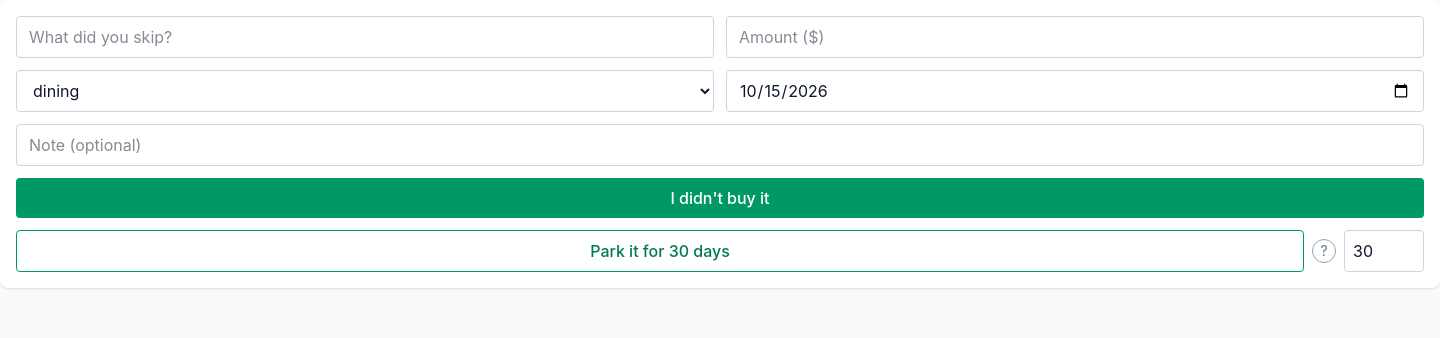
Test: EntryForm cooldown › rejects an out-of-range cooldown
The width and height of the screenshot is (1440, 338).
Type "Hat" into the field with placeholder "What did you skip?" at (365, 37), box [16,16,714,58]
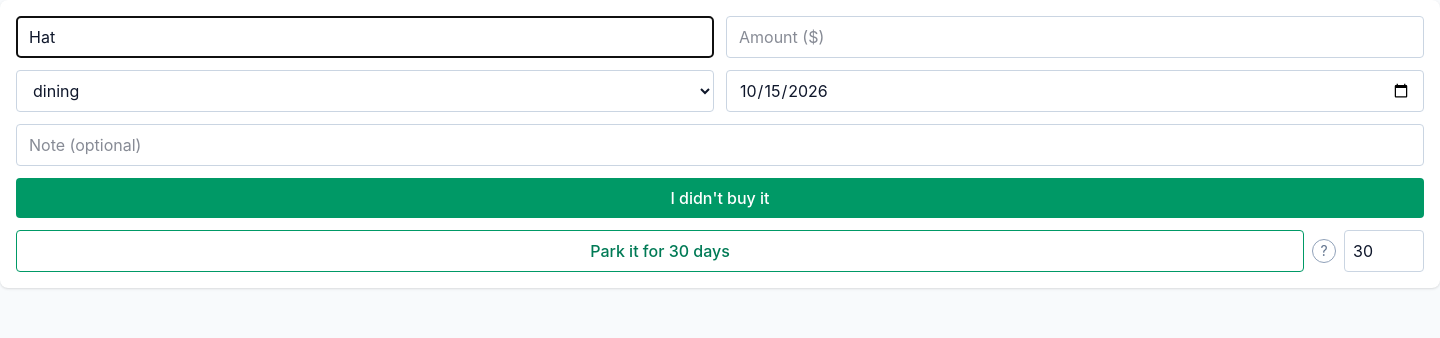
Type "10" into the field with placeholder "Amount ($)" at (1075, 37), box [726,16,1424,58]
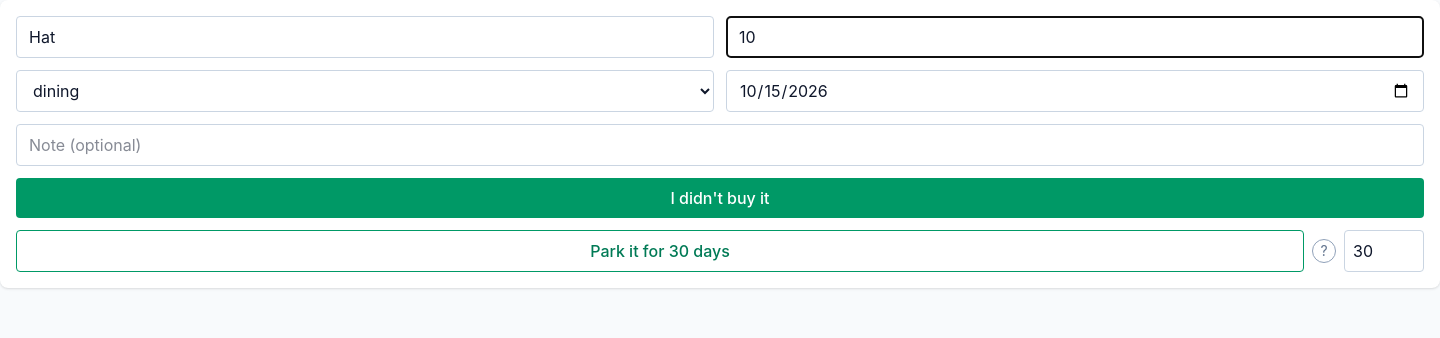
Replace the text in the number field named "Cooldown days" with "120" at (1384, 251), box [1344,230,1424,272]
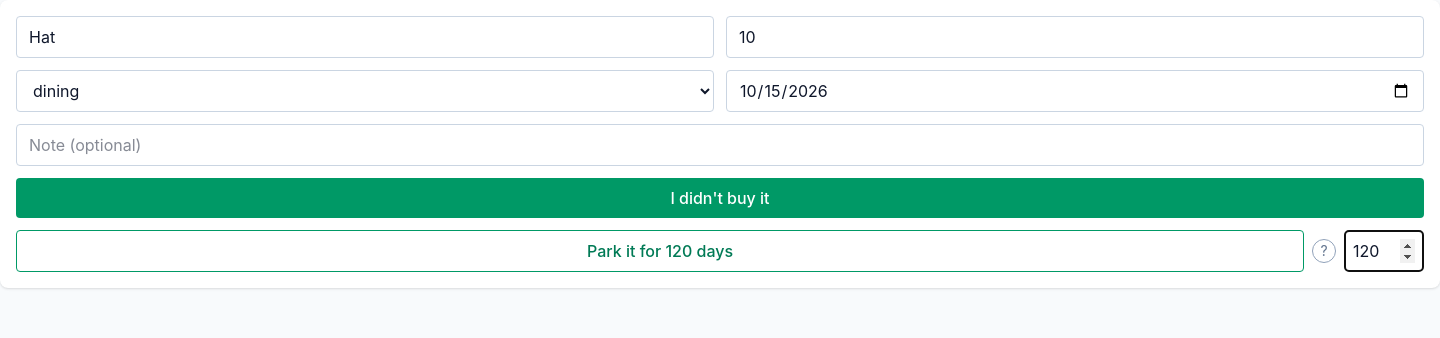
Click the button "Park it for 120 days" at (660, 251), box [16,230,1304,272]
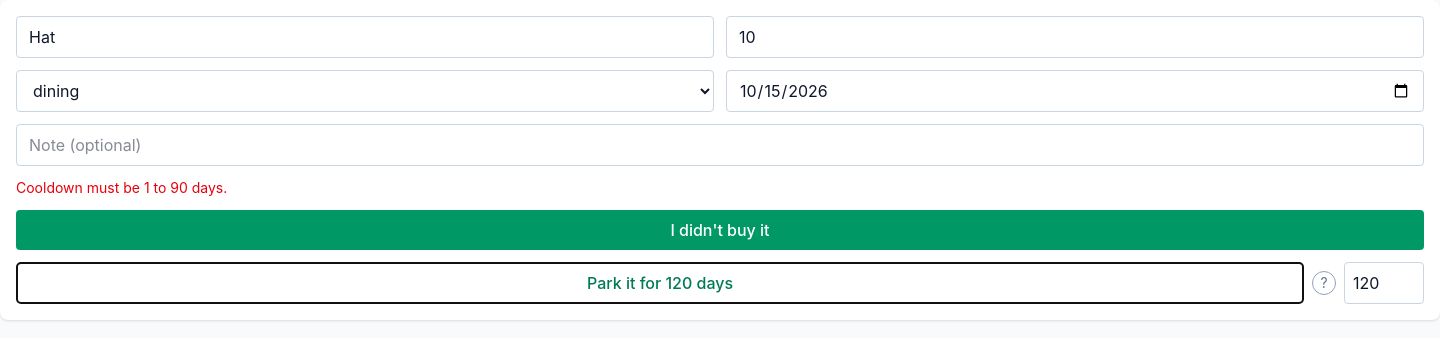
expect the text "Cooldown must be 1 to 90 days." is shown: met, box [16,179,227,196]
